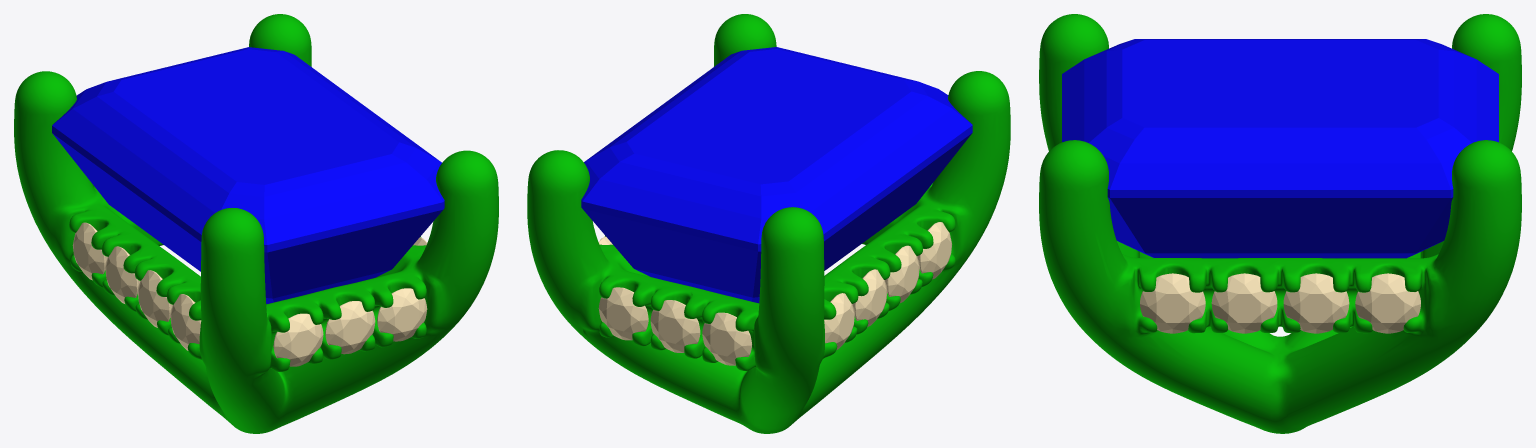
The picture shows the model from 3 angles, left to right: view 1: azimuth 30°, elevation 25°; view 2: azimuth 150°, elevation 25°; view 3: azimuth 270°, elevation 25°; orthographic projection. The views are drawn at different scales.
Parts seen in each view (by area): view 1: Diamond_Emerald, Metal01, Diamond_Round.012, Diamond_Round.011, Diamond_Round.013, Diamond_Round.001, Diamond_Round.003, Diamond_Round, Diamond_Round.002; view 2: Diamond_Emerald, Metal01, Diamond_Round.009, Diamond_Round.010, Diamond_Round.008, Diamond_Round.003, Diamond_Round.002, Diamond_Round.001, Diamond_Round; view 3: Diamond_Emerald, Metal01, Diamond_Round.004, Diamond_Round.006, Diamond_Round.007, Diamond_Round.005.
Part boxes in pixels (x1,y1,x2,y2): Diamond_Emerald: (52, 47, 444, 303); Metal01: (14, 14, 498, 433); Diamond_Round.012: (325, 301, 375, 354); Diamond_Round.011: (377, 288, 427, 341); Diamond_Round.013: (273, 313, 323, 366); Diamond_Round.001: (105, 246, 140, 303); Diamond_Round.003: (138, 270, 172, 327); Diamond_Round: (72, 222, 107, 280); Diamond_Round.002: (170, 294, 201, 350); Diamond_Emerald: (581, 47, 972, 303); Metal01: (527, 14, 1010, 433); Diamond_Round.009: (650, 300, 700, 352); Diamond_Round.010: (598, 287, 648, 340); Diamond_Round.008: (702, 312, 751, 365); Diamond_Round.003: (885, 245, 919, 302); Diamond_Round.002: (917, 222, 951, 279); Diamond_Round.001: (852, 269, 887, 326); Diamond_Round: (824, 293, 854, 349); Diamond_Emerald: (1062, 39, 1498, 258); Metal01: (1039, 14, 1521, 433); Diamond_Round.004: (1211, 273, 1277, 333); Diamond_Round.006: (1283, 273, 1349, 333); Diamond_Round.007: (1355, 273, 1420, 333); Diamond_Round.005: (1140, 273, 1205, 333).
Bounding box in the file's own units: 6.46 × 6.7 × 8.46.
